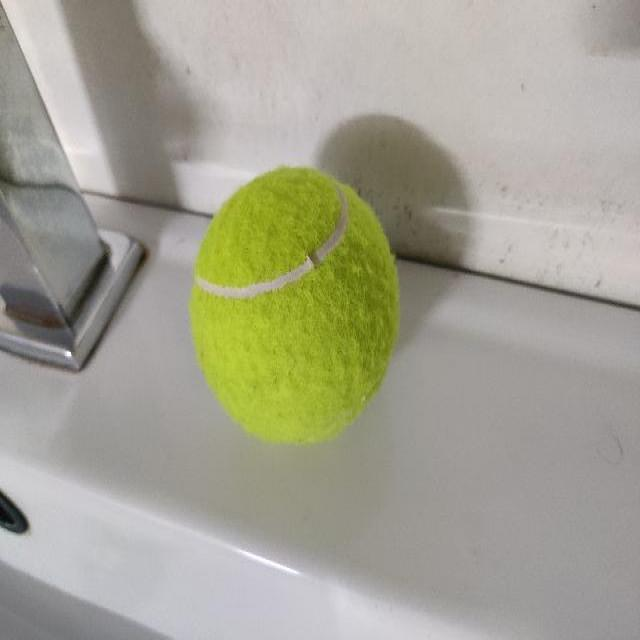tennis-ball: (185, 163, 403, 449)
